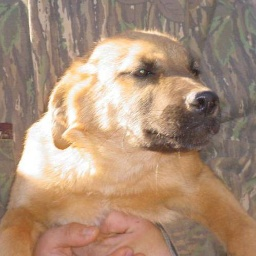dog: (3, 29, 256, 248)
